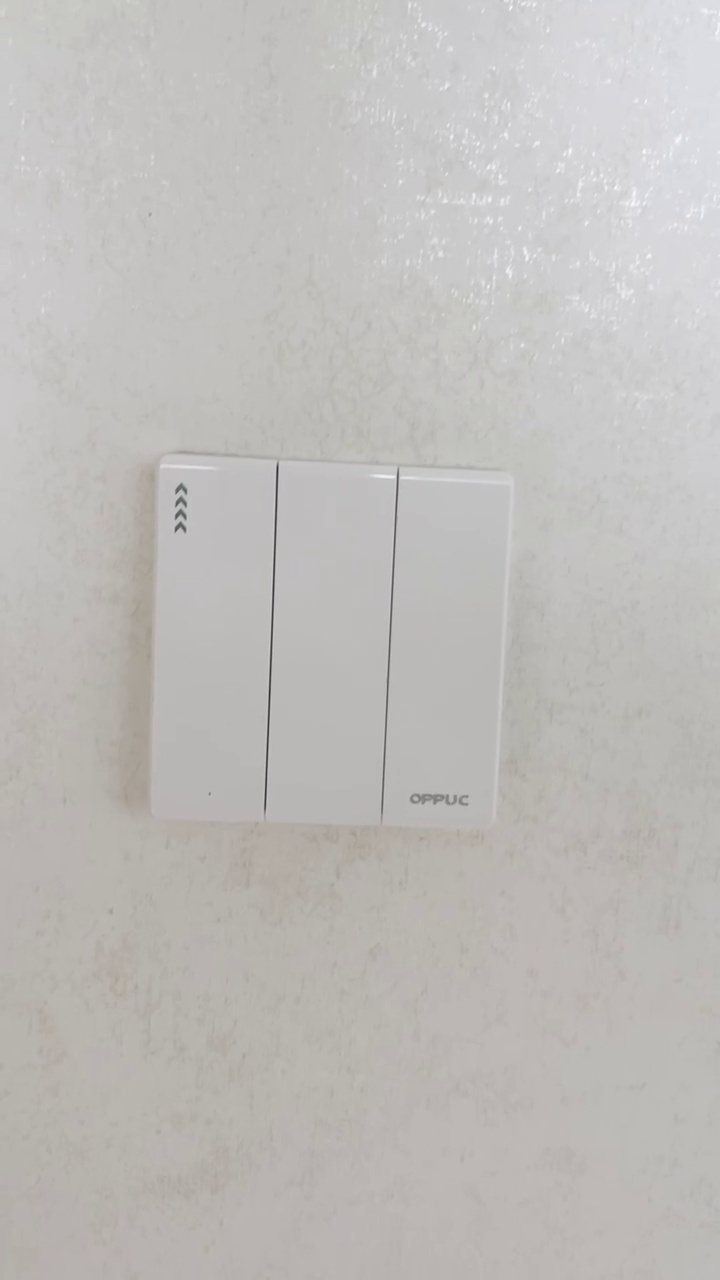button1: (155, 460, 275, 819), (270, 466, 392, 819), (389, 476, 505, 823)
